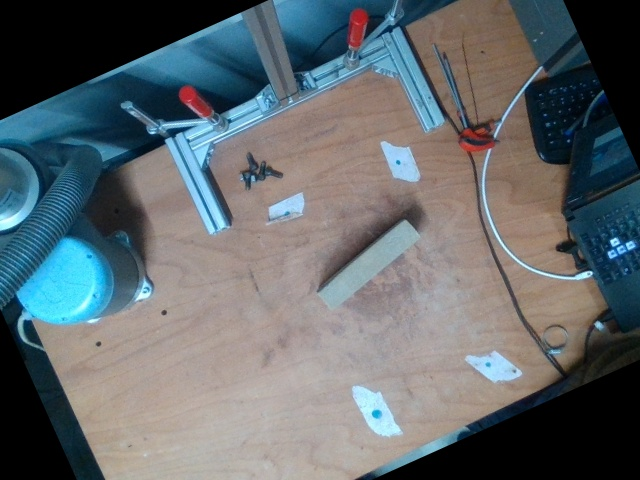brick-side: (319, 221, 417, 309)
